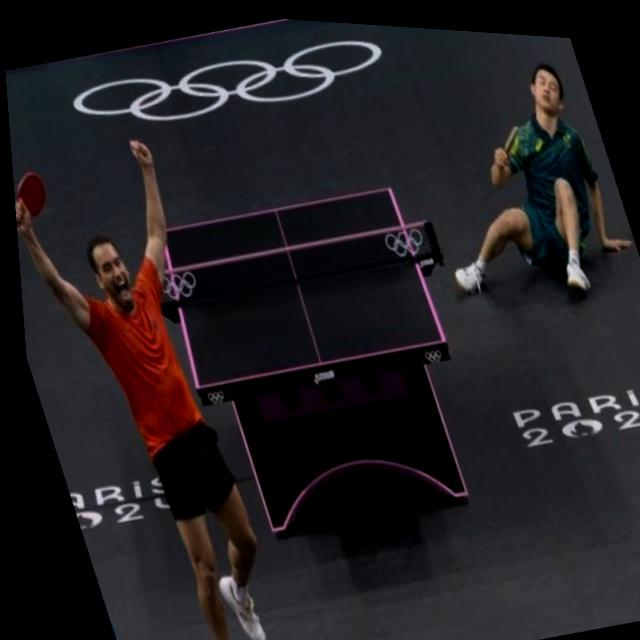TT Net: (140, 216, 447, 313)
TT Racket: (14, 162, 51, 225), (500, 122, 521, 157)
TT Table: (157, 186, 445, 388)
